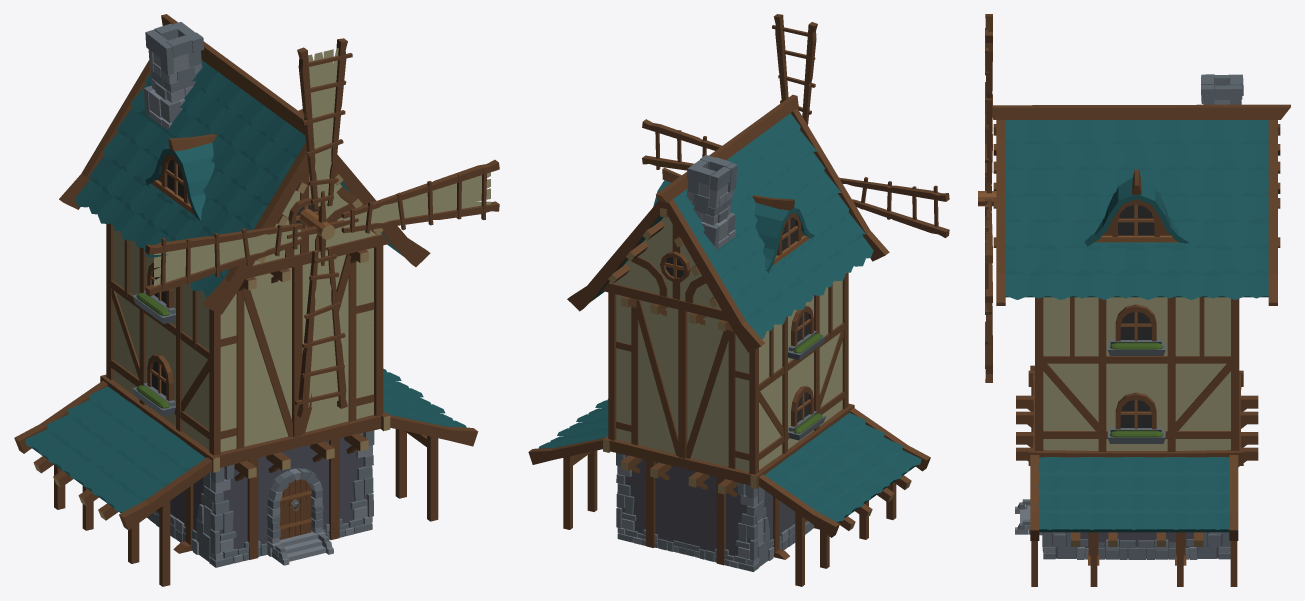
Rendered from mill.glb.
The picture shows the model from 3 angles, left to right: view 1: azimuth 30°, elevation 25°; view 2: azimuth 150°, elevation 25°; view 3: azimuth 270°, elevation 25°; orthographic projection. The views are drawn at different scales.
Visible parts, largest first — view 1: Mill; view 2: Mill; view 3: Mill.
Boxes of the visible parts, bbox=[...] form: Mill: bbox=[14, 14, 499, 586]; Mill: bbox=[528, 14, 949, 586]; Mill: bbox=[978, 14, 1290, 586].
Size of the model in its own units: 3.4 by 4.8 by 2.73.
Materials: 1 (1 with a texture image).
